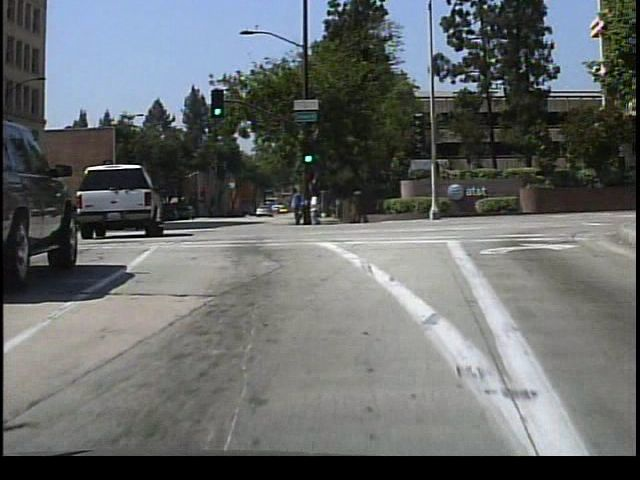person: (287, 180, 305, 229), (306, 189, 324, 227)
